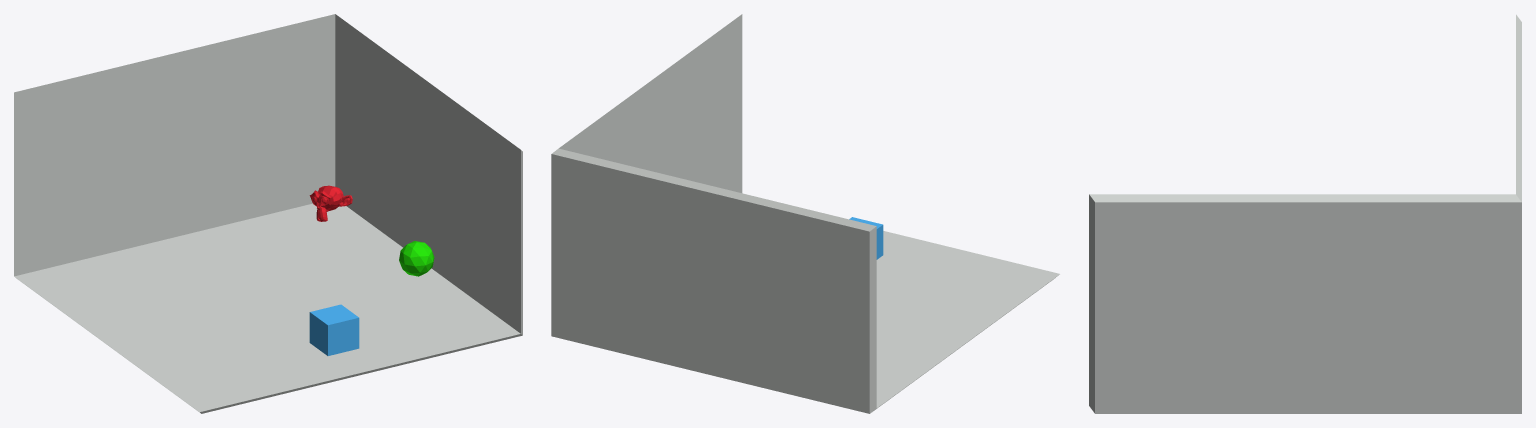
File: shadowtest.glb
3 views of the same model, side by side, from view 1: azimuth 30°, elevation 25°; view 2: azimuth 150°, elevation 25°; view 3: azimuth 270°, elevation 25° (orthographic). The views are drawn at different scales.
Visible parts, largest first — view 1: Plane, Cube.002, Icosphere, Suzanne; view 2: Plane; view 3: Plane.
Part boxes in pixels (x1,y1,x2,y2): Plane: (14,14,522,413); Cube.002: (309,304,359,355); Icosphere: (399,241,434,276); Suzanne: (309,185,352,221); Plane: (551,14,1059,413); Plane: (1089,14,1521,413).
Bounding box in the file's own units: 20.77 × 11.5 × 20.77.
